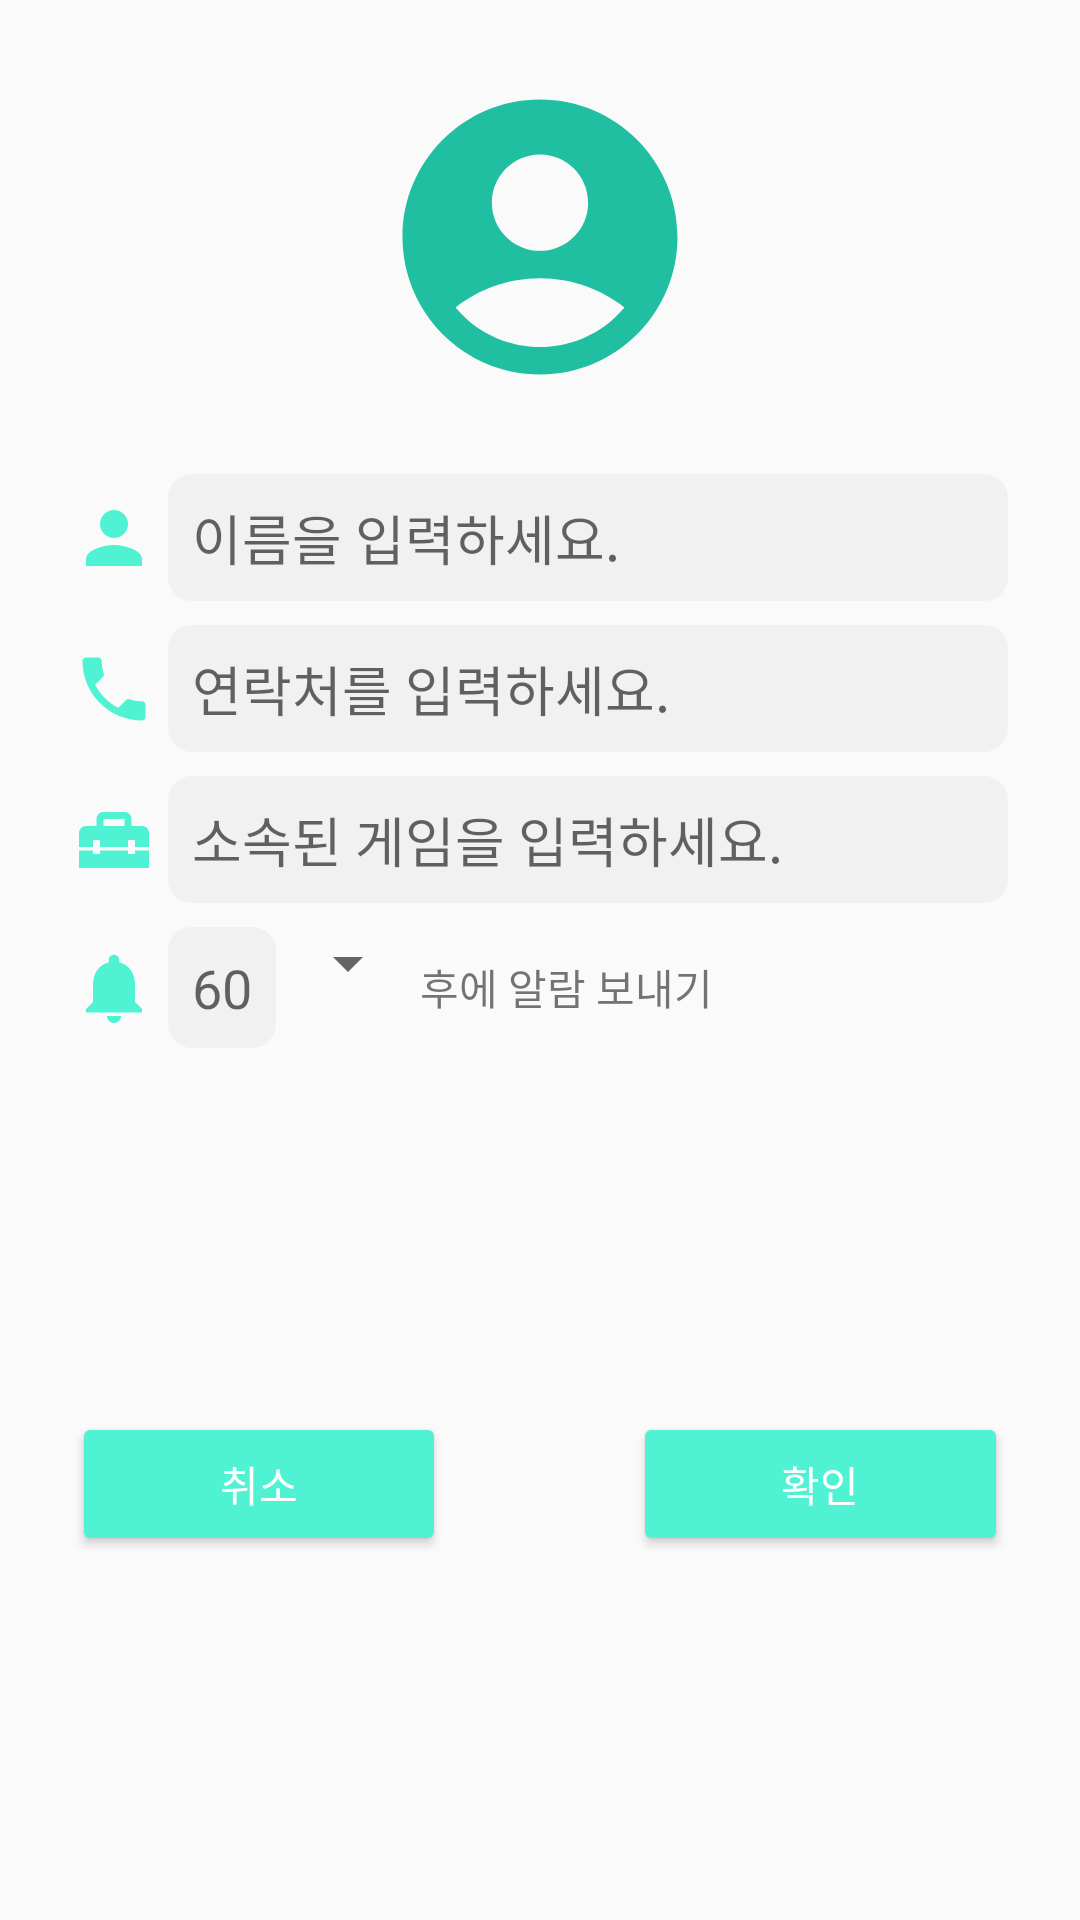

Icon click points for this 1080*1920 phone screenshot, format (x,y):
account circle: (540,237)
document bag: (114,840)
notification: (114,988)
person: (114,538)
phone: (114,689)
